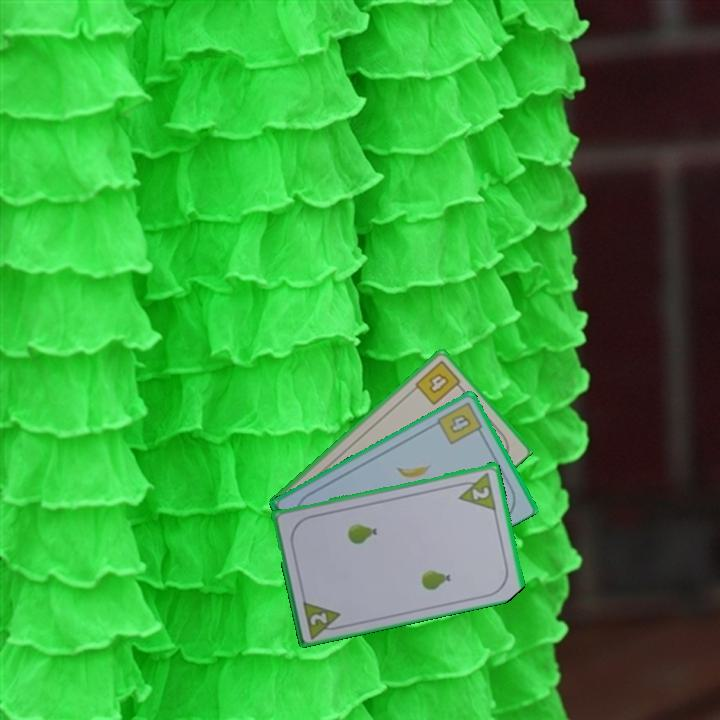2p: (452, 468, 499, 512), (299, 596, 346, 640)
4b: (411, 357, 466, 408), (433, 398, 487, 447)
